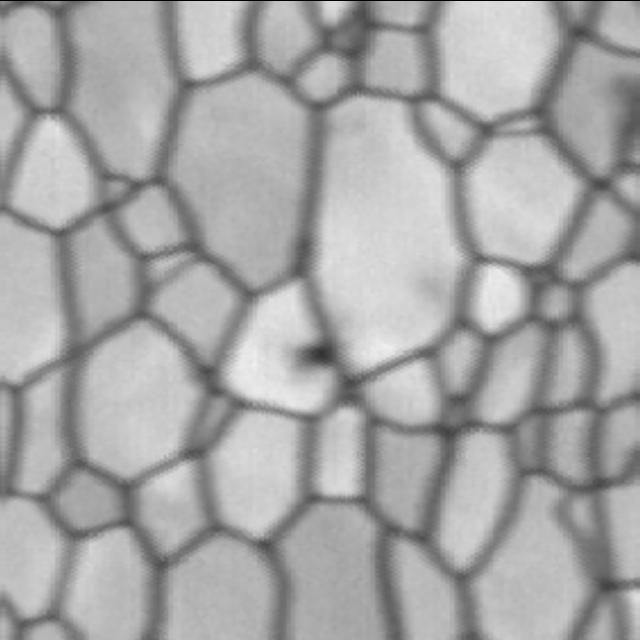good_void: (283, 328, 349, 378)
